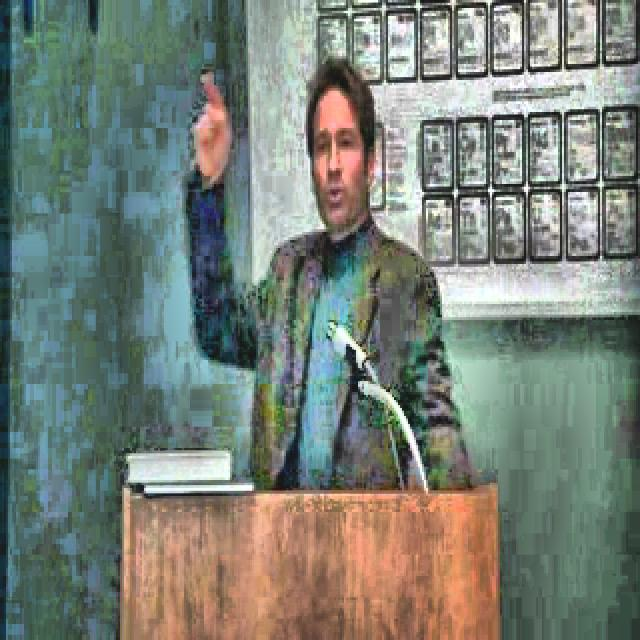T: (171, 48, 475, 494)
